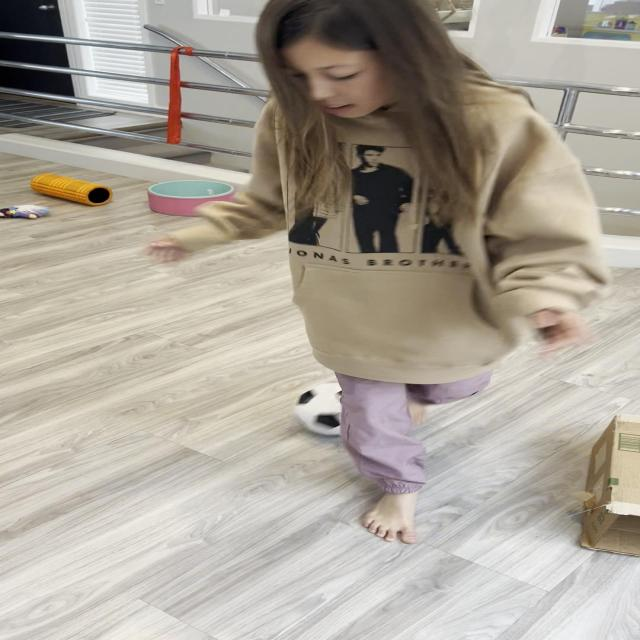Soccer Ball: (293, 381, 392, 435)
